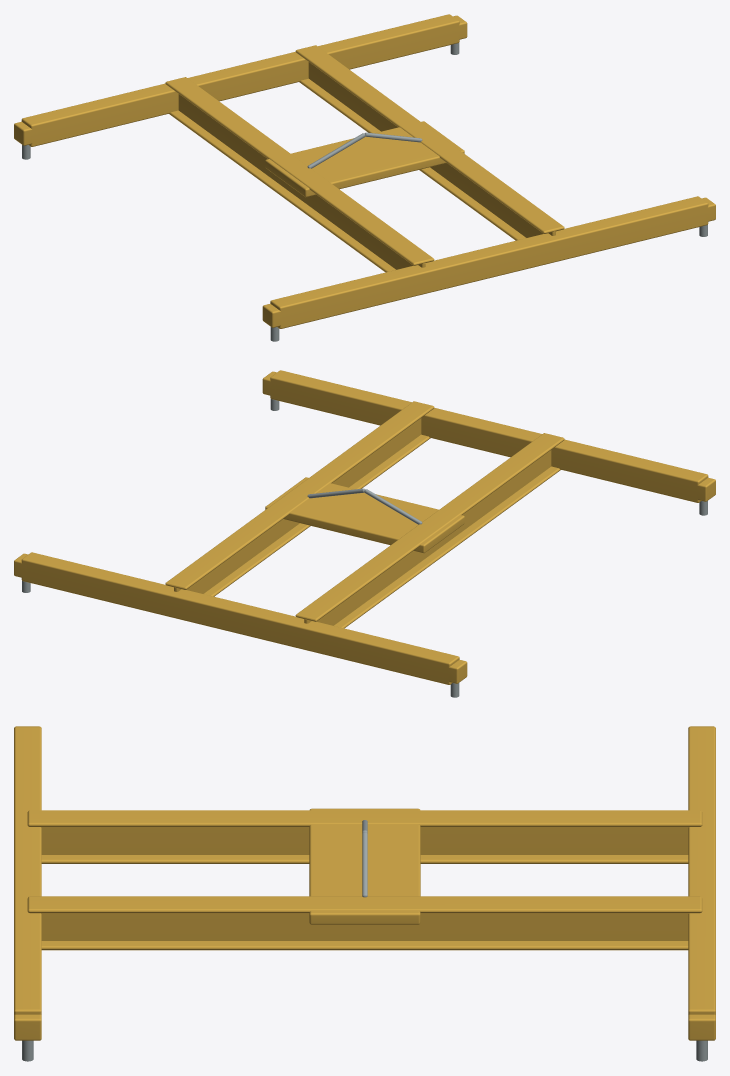
File: legacy_breakbulk_4m_spreader.glb
3 renders of one model, top to bottom at view 1: azimuth 30°, elevation 25°; view 2: azimuth 150°, elevation 25°; view 3: azimuth 270°, elevation 25°, orthographic. The views are drawn at different scales.
Visible parts, largest first — view 1: legacy_breakbulk_4m_spreader Fixed_LiftingFrame.002, legacy_breakbulk_4m_spreader Fixed_LiftSteel.002; view 2: legacy_breakbulk_4m_spreader Fixed_LiftingFrame.002, legacy_breakbulk_4m_spreader Fixed_LiftSteel.002; view 3: legacy_breakbulk_4m_spreader Fixed_LiftingFrame.002, legacy_breakbulk_4m_spreader Fixed_LiftSteel.002.
Part boxes in pixels (box(x1,y1,x2,y2)): legacy_breakbulk_4m_spreader Fixed_LiftingFrame.002: box(14, 14, 715, 328); legacy_breakbulk_4m_spreader Fixed_LiftSteel.002: box(22, 43, 707, 341); legacy_breakbulk_4m_spreader Fixed_LiftingFrame.002: box(14, 370, 715, 684); legacy_breakbulk_4m_spreader Fixed_LiftSteel.002: box(22, 399, 707, 697); legacy_breakbulk_4m_spreader Fixed_LiftingFrame.002: box(14, 726, 715, 1040); legacy_breakbulk_4m_spreader Fixed_LiftSteel.002: box(22, 820, 707, 1061).
Size of the model in its own units: 3.75 by 0.5108 by 3.79.
